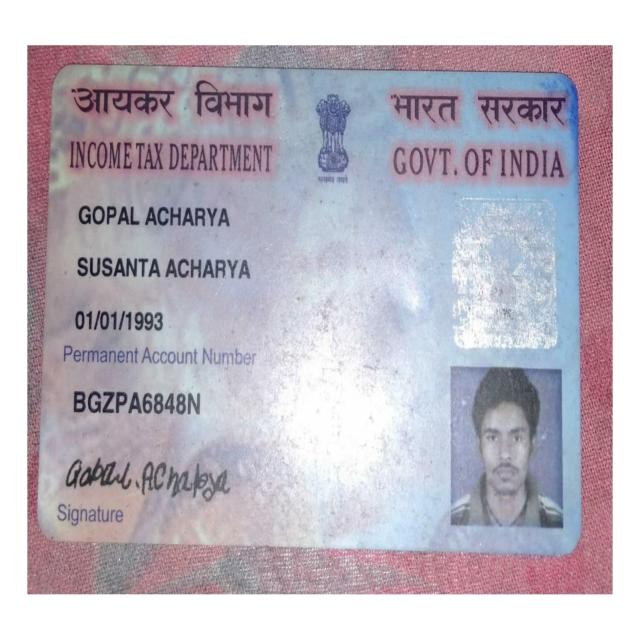pan_card: (45, 73, 575, 550)
